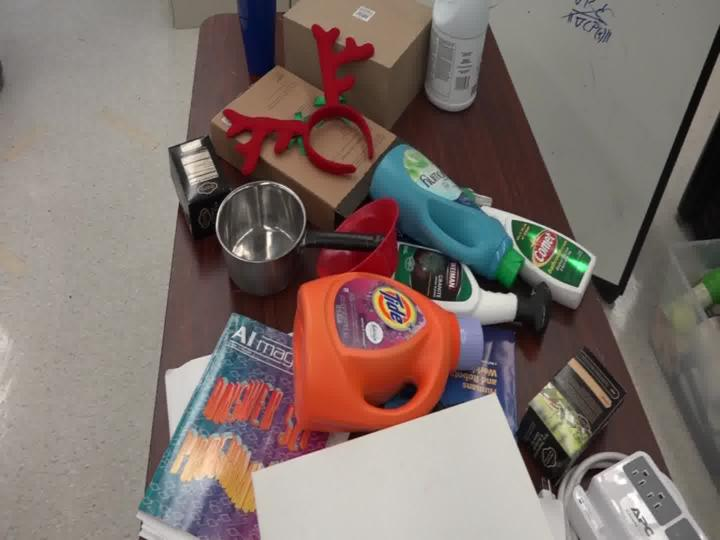tide: (269, 249, 495, 438)
